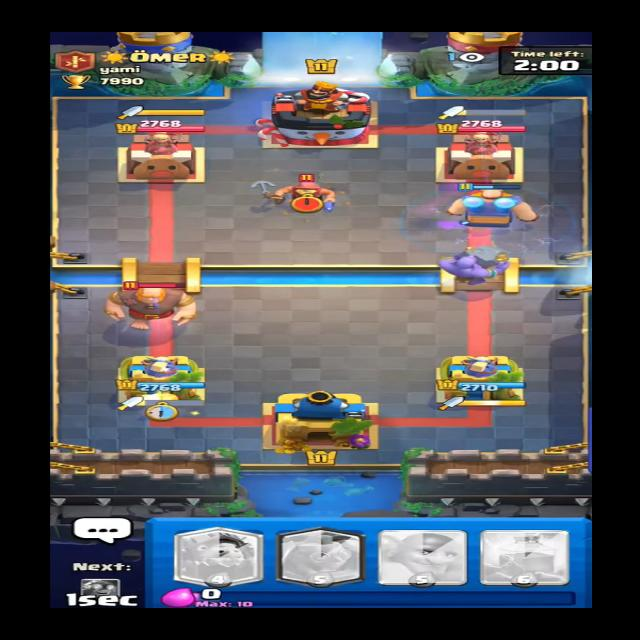fisherman: (251, 166, 349, 215)
giant: (104, 279, 203, 328)
